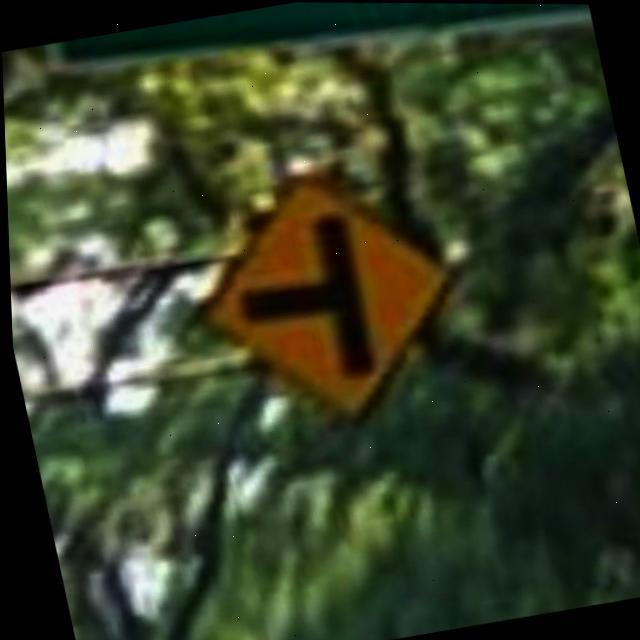Persimpangan 3 Sisi Kiri: (184, 158, 476, 435)
